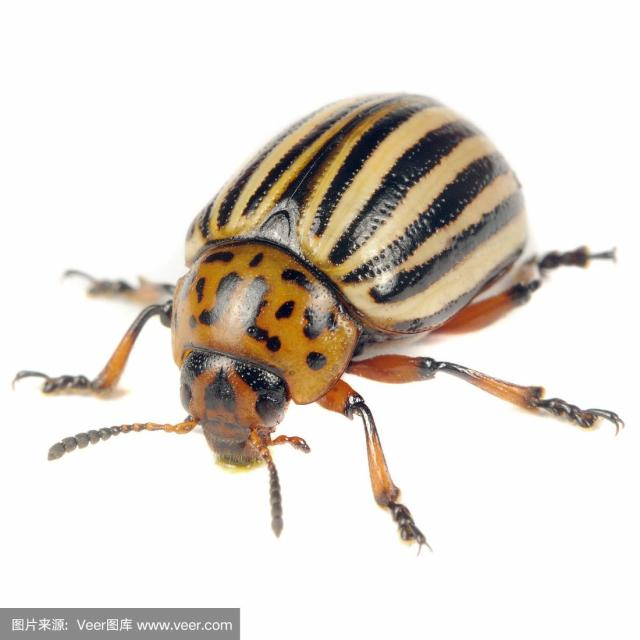ShuCaiHuaBanChong-Grown-: (184, 88, 560, 477)
